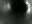person: (25, 1, 32, 17), (7, 3, 12, 15)
